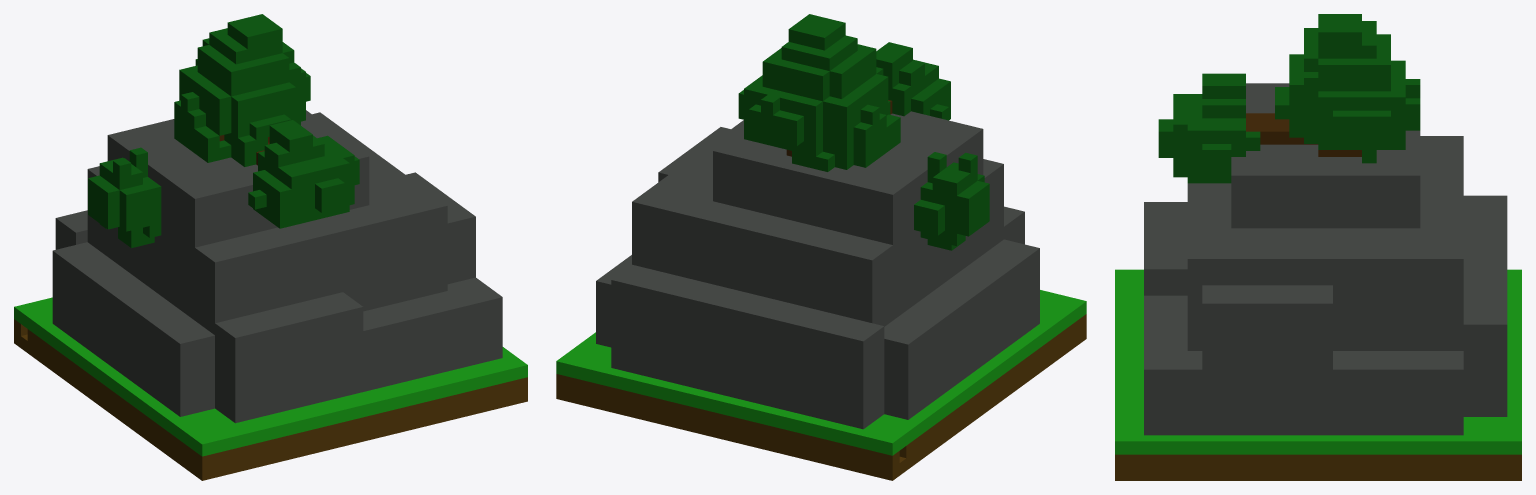
Rendered from tree.gltf.
3 renders of one model, left to right at view 1: azimuth 30°, elevation 25°; view 2: azimuth 150°, elevation 25°; view 3: azimuth 270°, elevation 25°, orthographic. The views are drawn at different scales.
Parts seen in each view (by area): view 1: Layer.2, Layer.3, Layer.1; view 2: Layer.2, Layer.3, Layer.1; view 3: Layer.2, Layer.1, Layer.3.
Boxes of the visible parts, x1,y1,x2,y2 form: Layer.2: (52, 110, 502, 423); Layer.3: (88, 14, 359, 247); Layer.1: (14, 297, 527, 480); Layer.2: (596, 111, 1039, 429); Layer.3: (738, 14, 989, 250); Layer.1: (556, 290, 1086, 480); Layer.2: (1144, 83, 1507, 435); Layer.1: (1115, 269, 1521, 480); Layer.3: (1158, 14, 1420, 183).
Bounding box in the file's own units: 28 × 28 × 28.
1 material, 1 textured.
